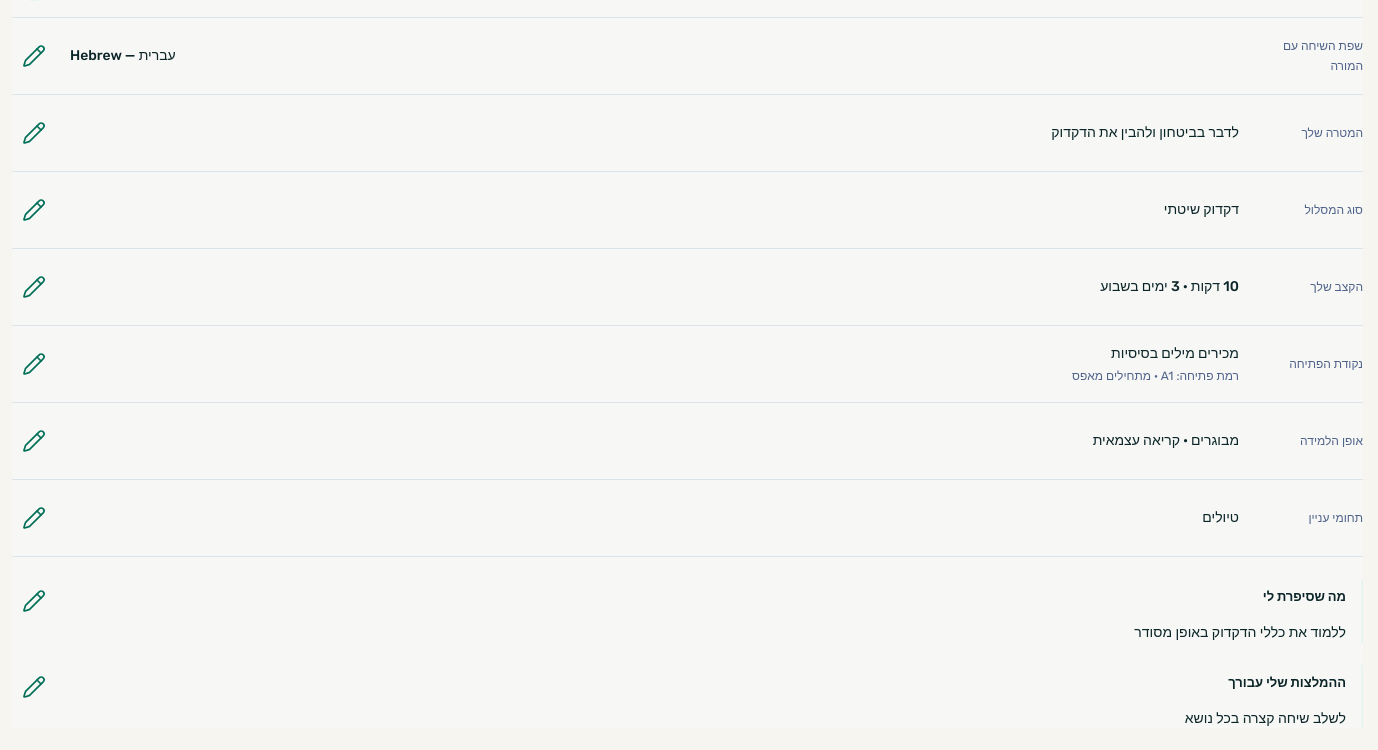
Test case: inline interview preference review › saves ההמלצות שלי עבורך without replacing other preferences
(page scrolled)
Click the button named "עריכת ההמלצות שלי עבורך" at x=34, y=687, box [12,665,56,709]
(page scrolled)
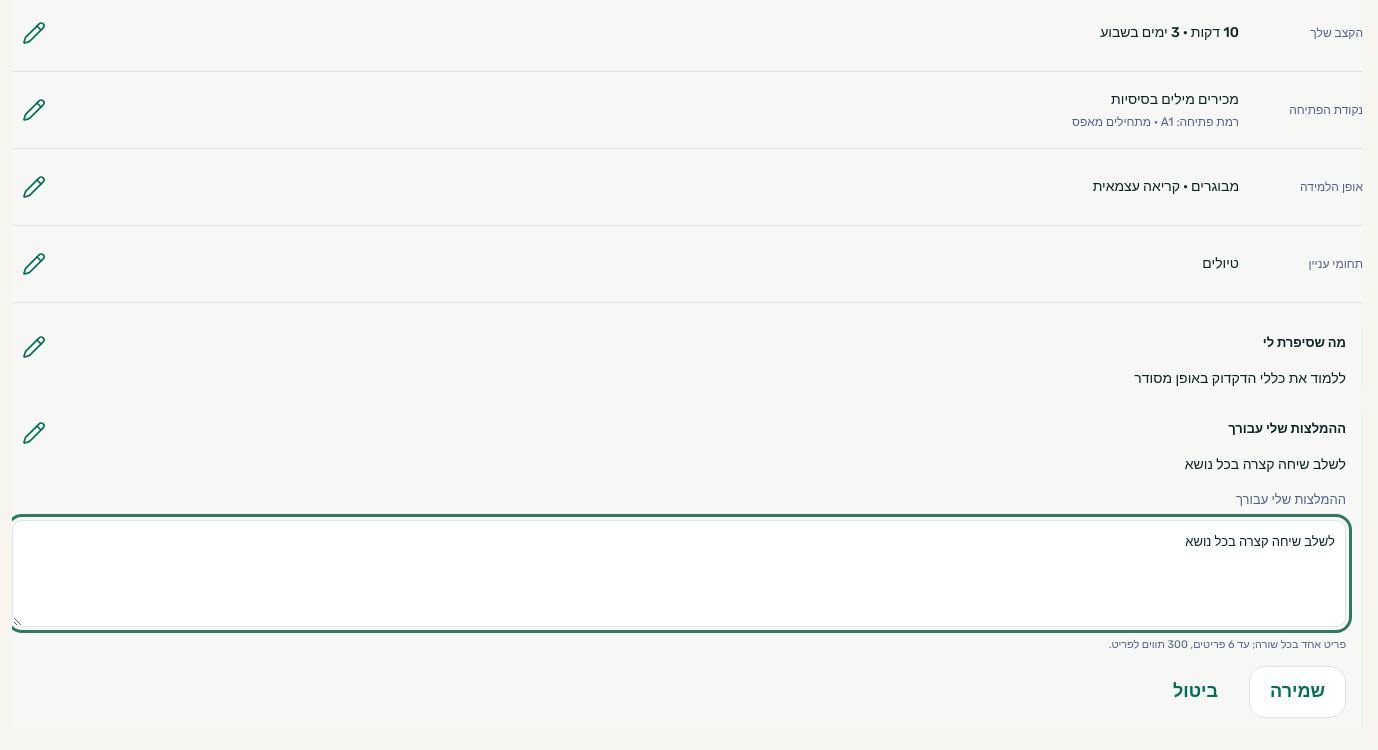
Clear the text box at x=679, y=574, box [12,520,1346,627]
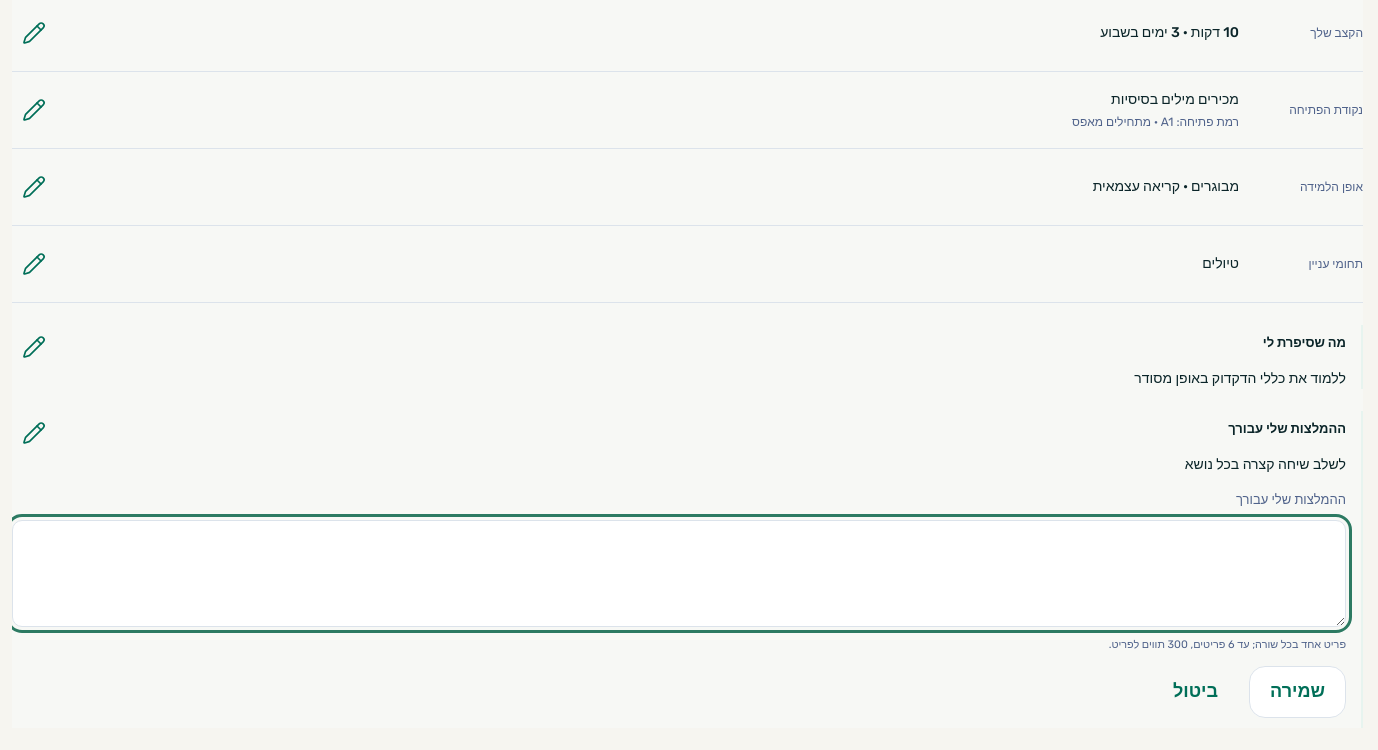
Click the button "שמירה" at x=1298, y=692, box [1249,666,1346,718]
(page scrolled)
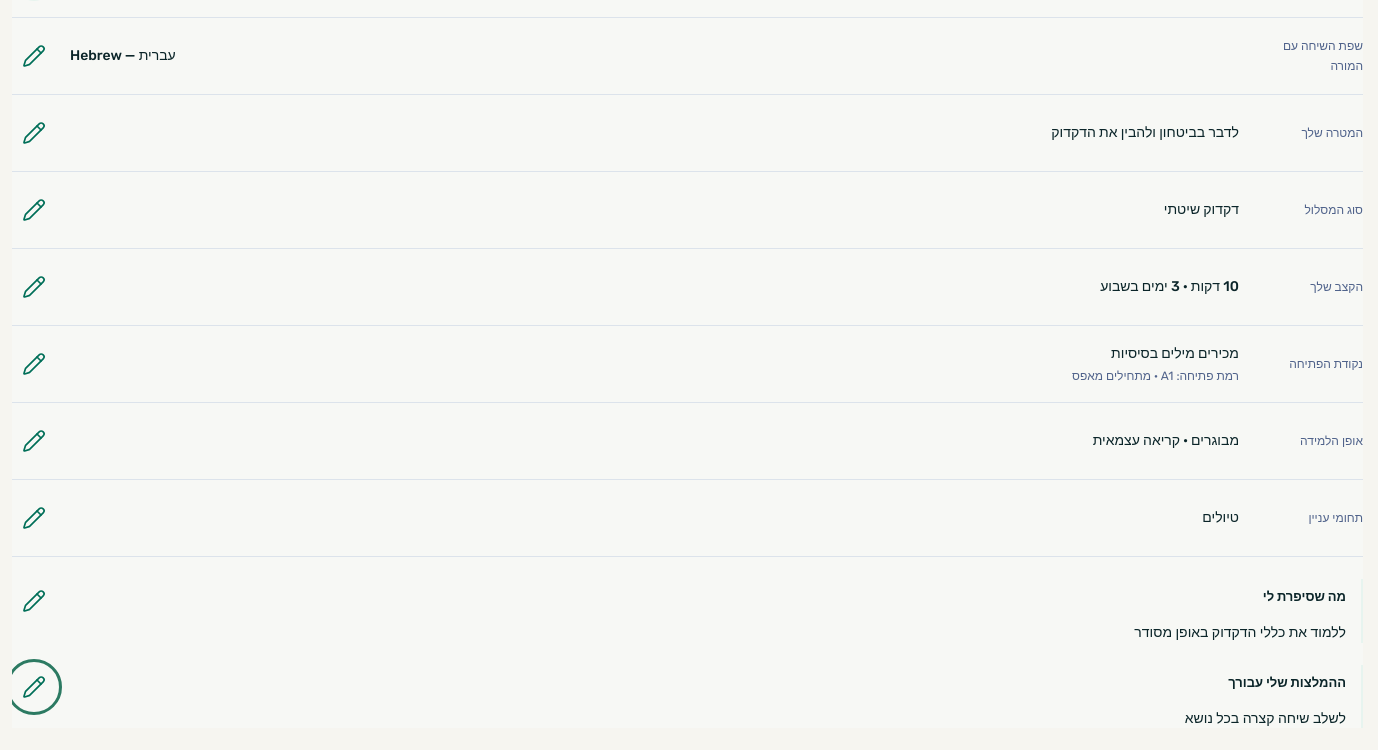
Expected: the form is gone
